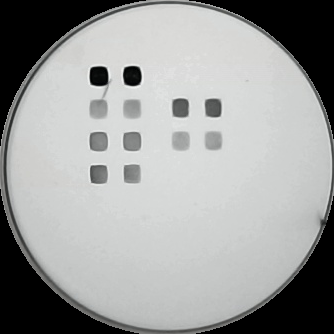检查点: (170, 128, 193, 155), (87, 63, 110, 89), (121, 130, 146, 153), (202, 130, 228, 152), (88, 163, 111, 187), (122, 64, 144, 89), (121, 162, 143, 186), (202, 97, 224, 120), (170, 97, 191, 121), (87, 131, 110, 152), (122, 99, 144, 120), (89, 98, 109, 120)
